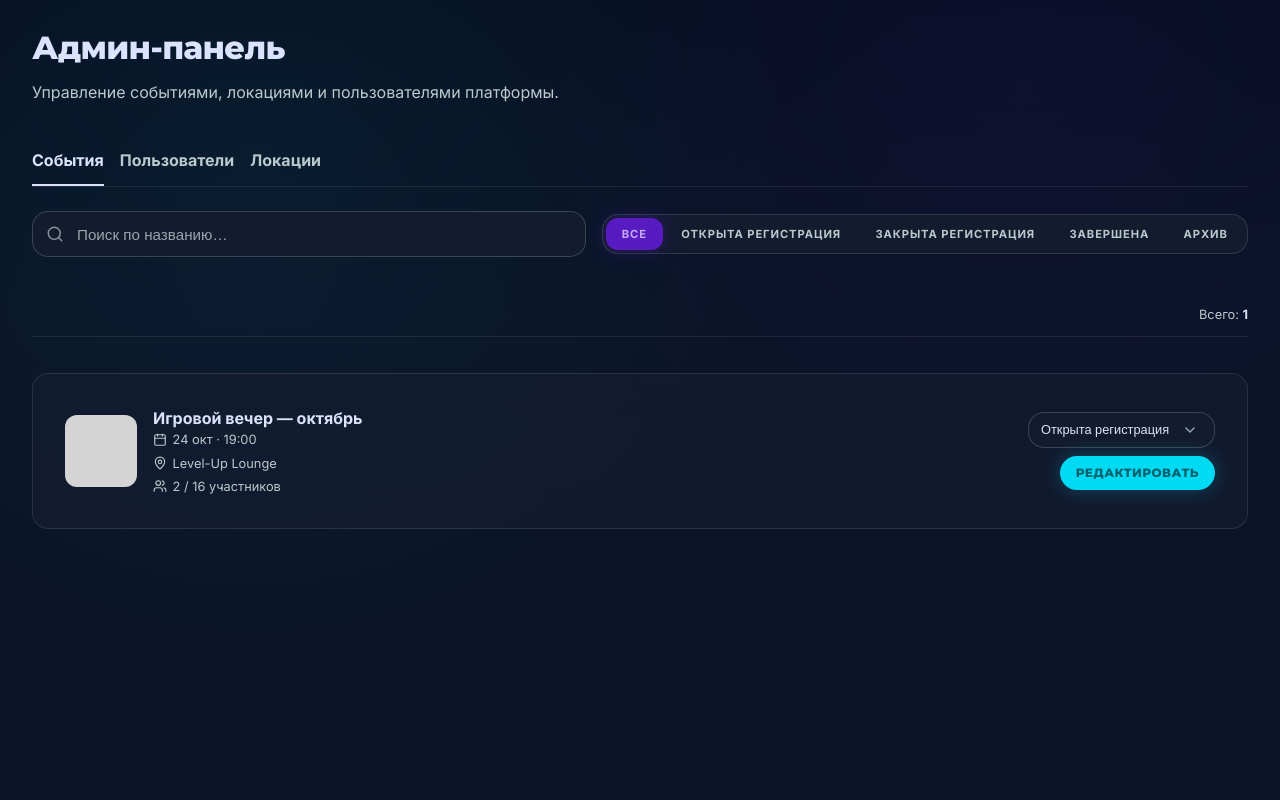
it: AdminPage › admin can block and unblock a user
Click the tab "Пользователи" at x=177, y=161, box [120,136,234,186]
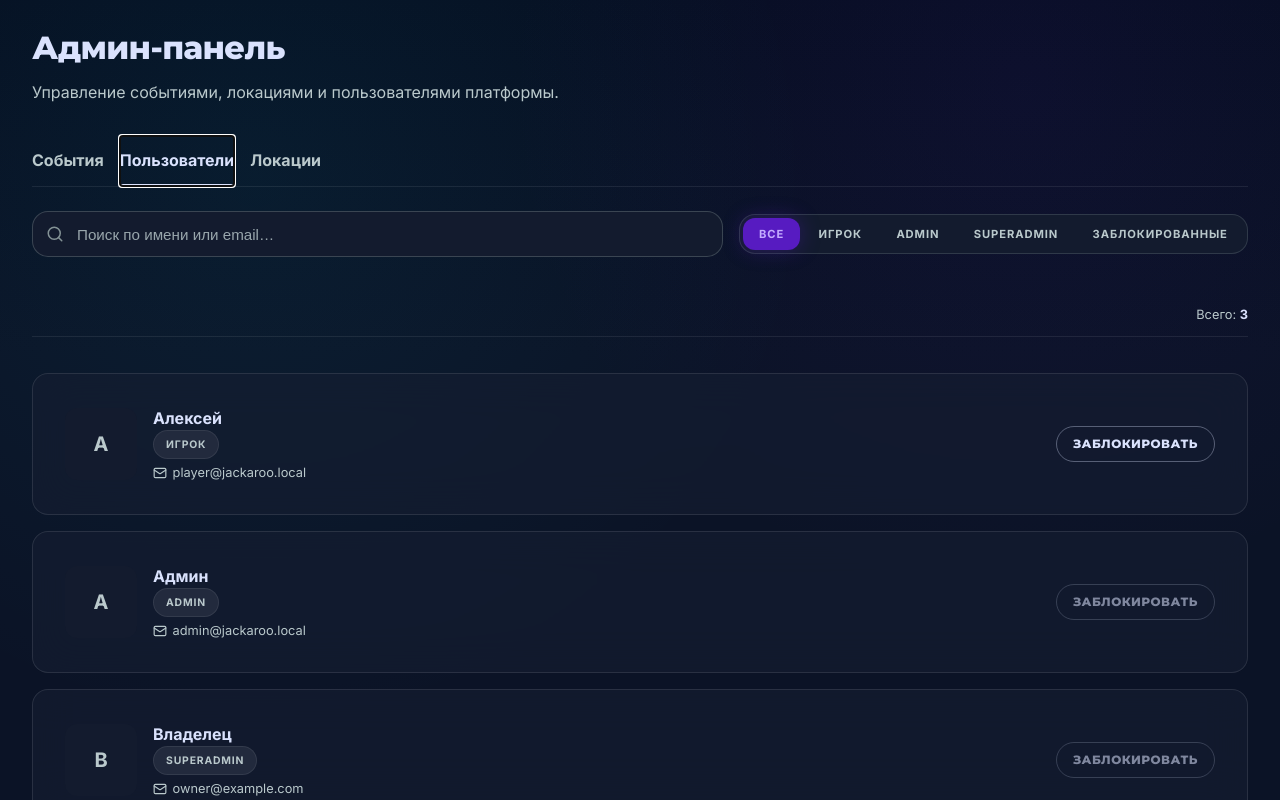
Expected: the button "Алексей" is shown, [153,406,222,430]
Expected: the button with aria-label "Заблокировать пользователя Алексей" is shown
Click the button with aria-label "Заблокировать пользователя Алексей" at x=1136, y=444, box [1056,426,1215,462]
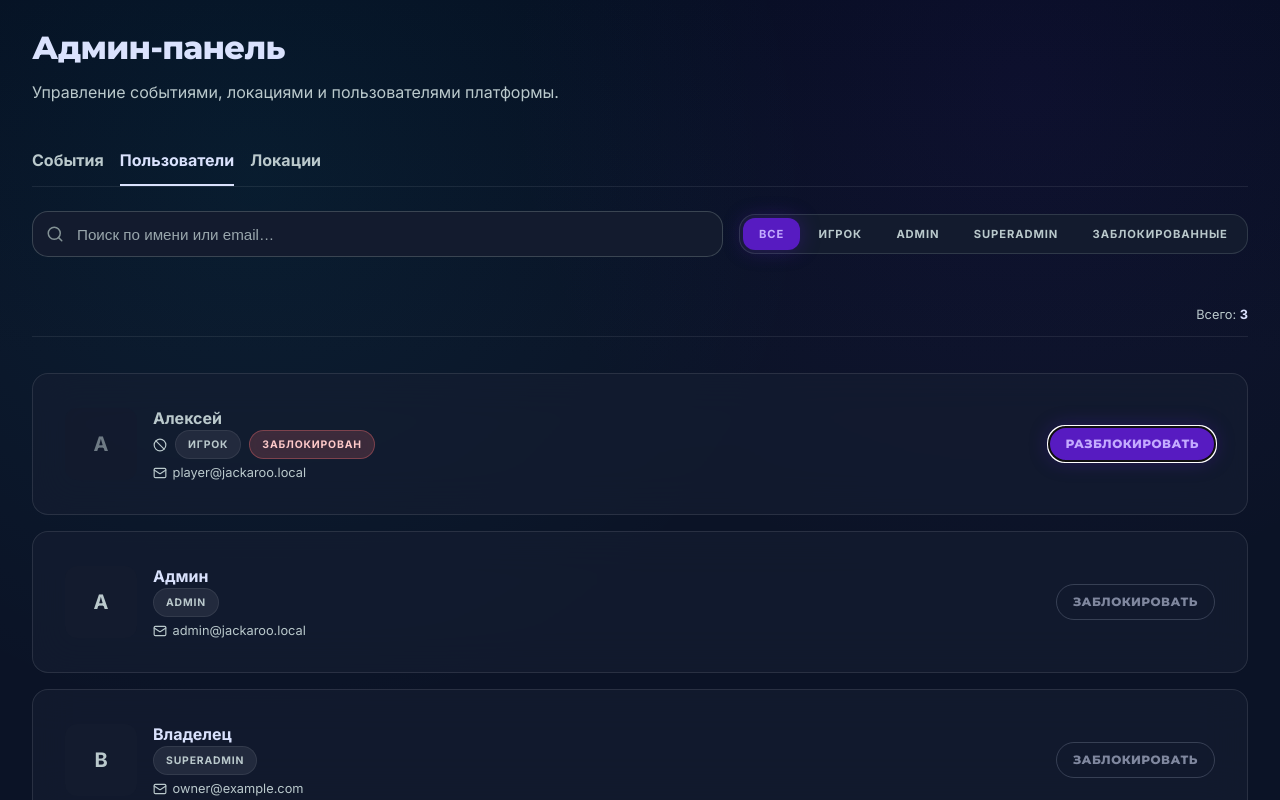
Expected: the text "Заблокирован" is shown, [249,430,375,459]
Expected: the button with aria-label "Разблокировать пользователя Алексей" is shown
Click the button with aria-label "Разблокировать пользователя Алексей" at x=1132, y=444, box [1049,427,1215,461]
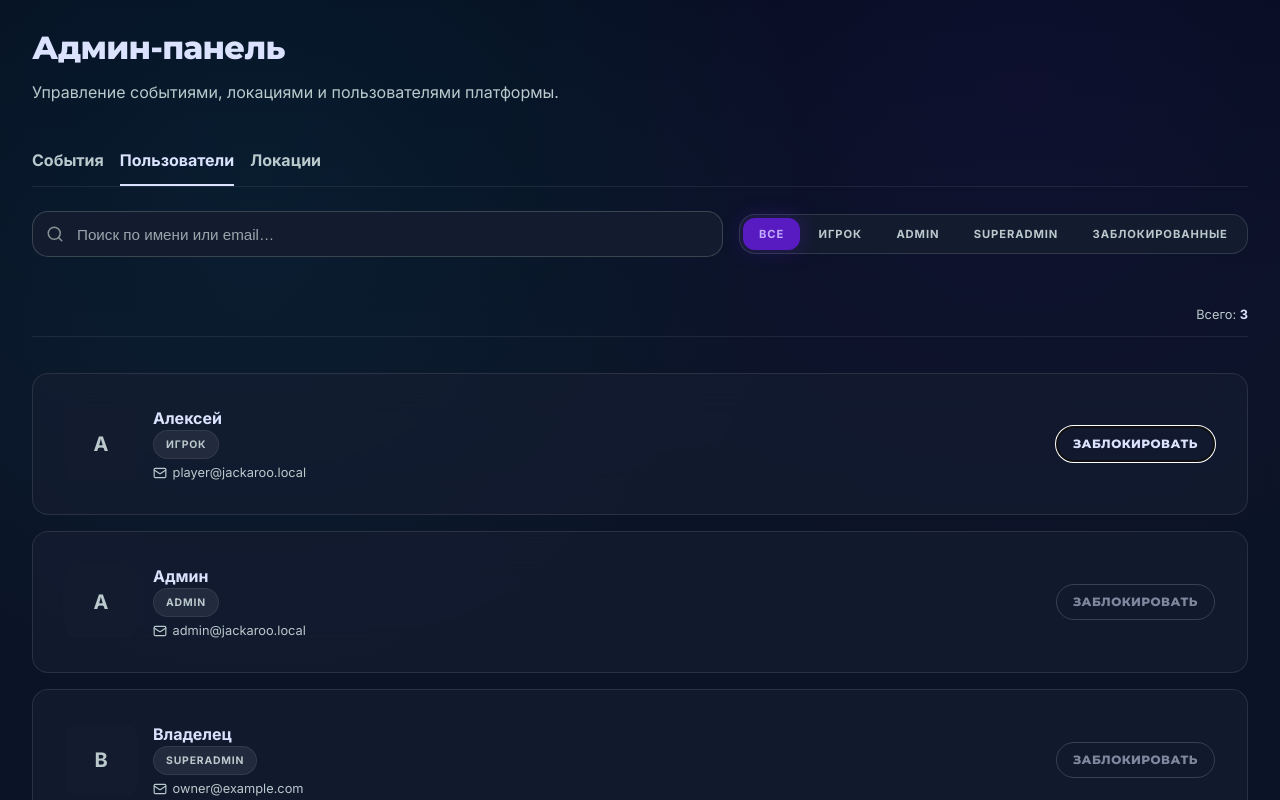
Expected: the button with aria-label "Заблокировать пользователя Алексей" is shown, [1056,426,1215,462]
